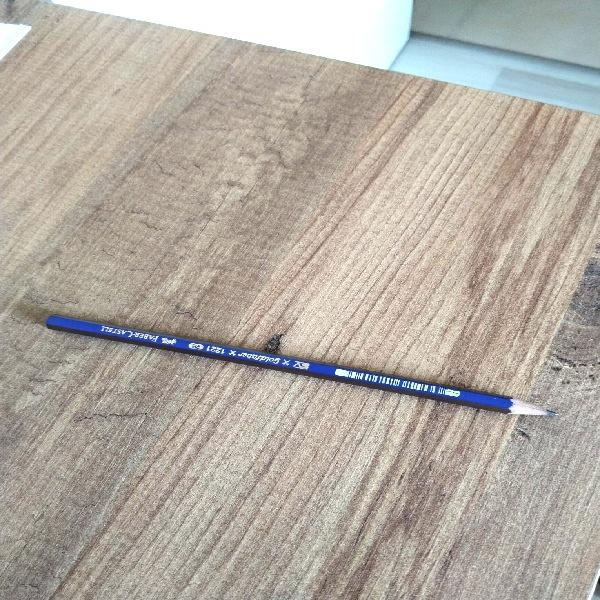pencil: (44, 308, 557, 423)
